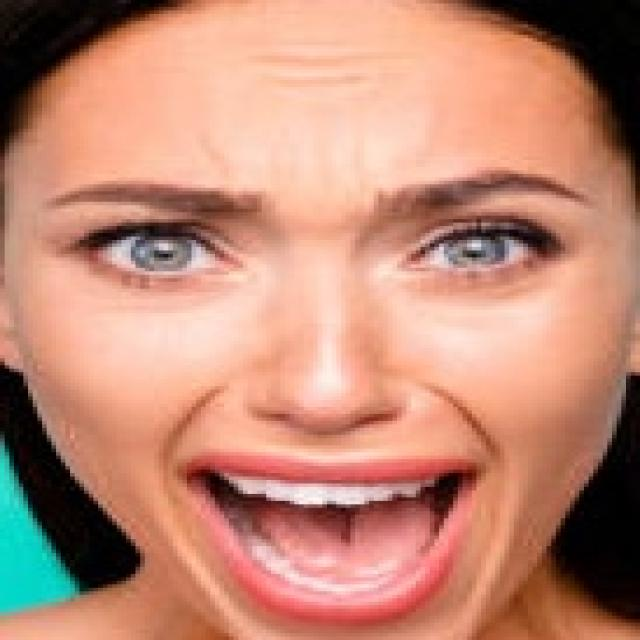Anxiety: (4, 3, 635, 637)
